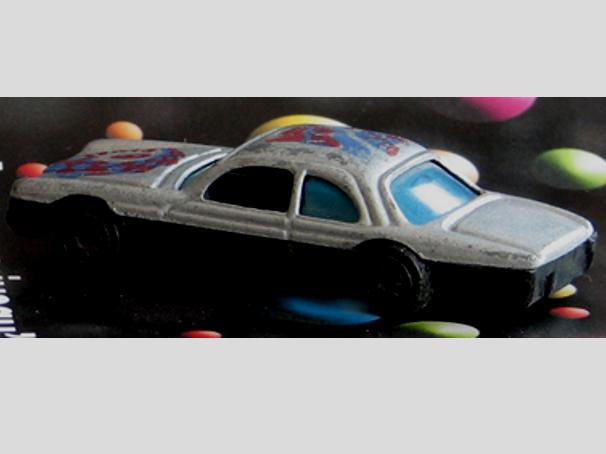toy-car: (6, 120, 600, 319)
